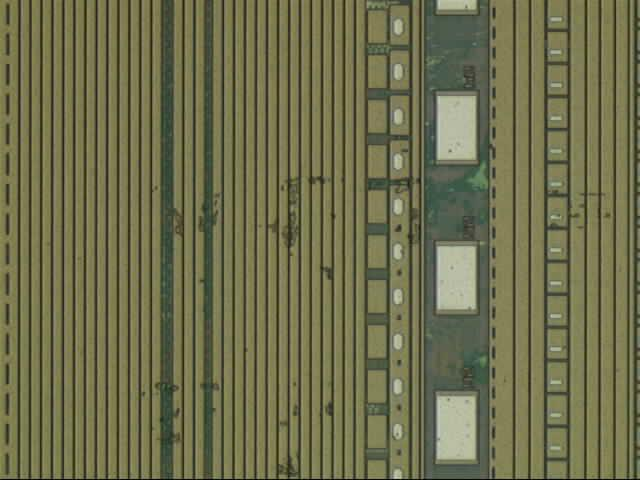SCRATCH: (132, 170, 425, 480)
